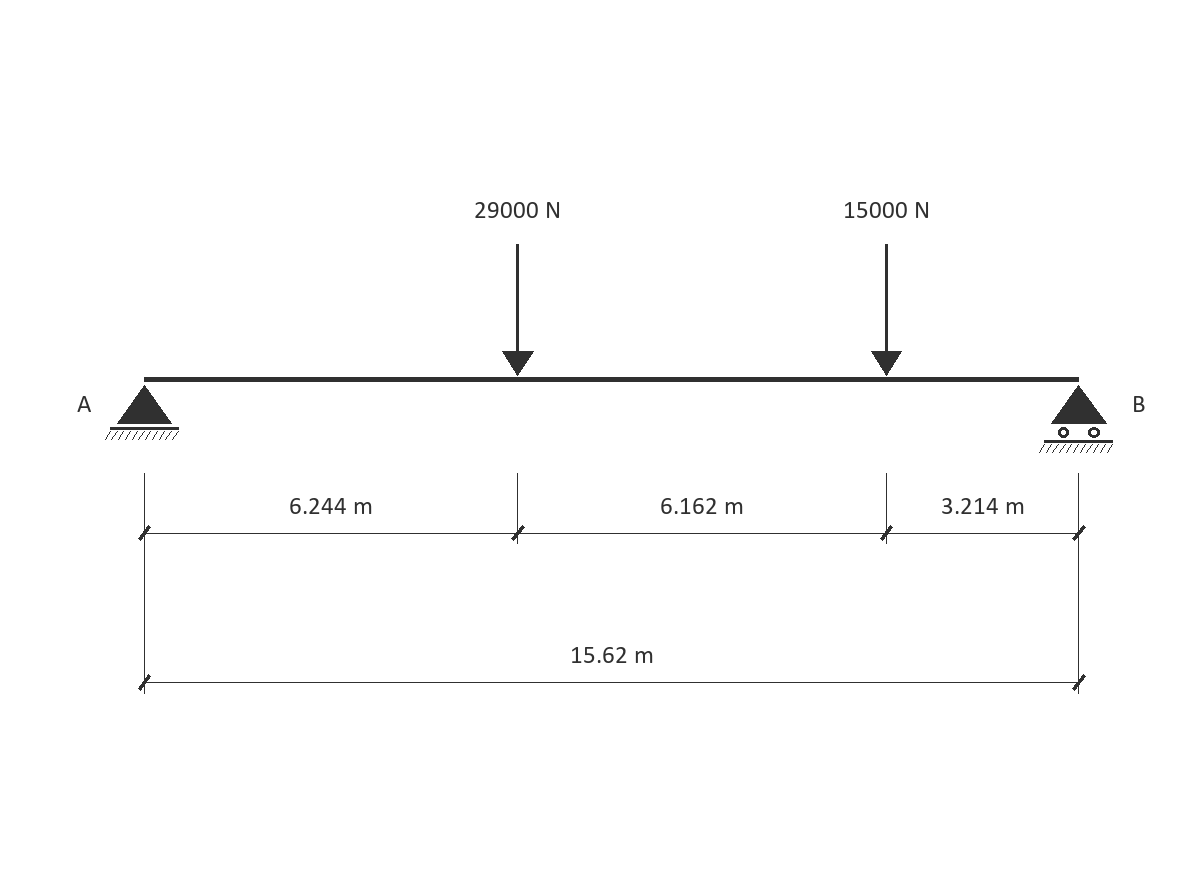pin_support: (105, 385, 179, 440)
point_load: (502, 244, 534, 376), (871, 244, 902, 376)
roller_support: (1039, 385, 1113, 453)
